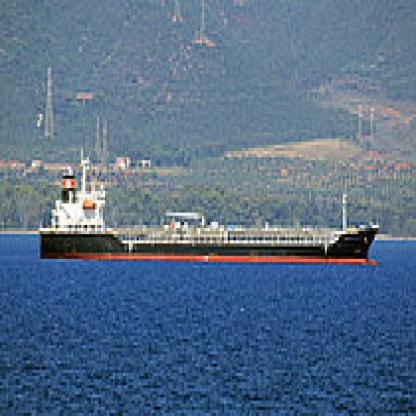Tanker: (41, 151, 376, 280)
